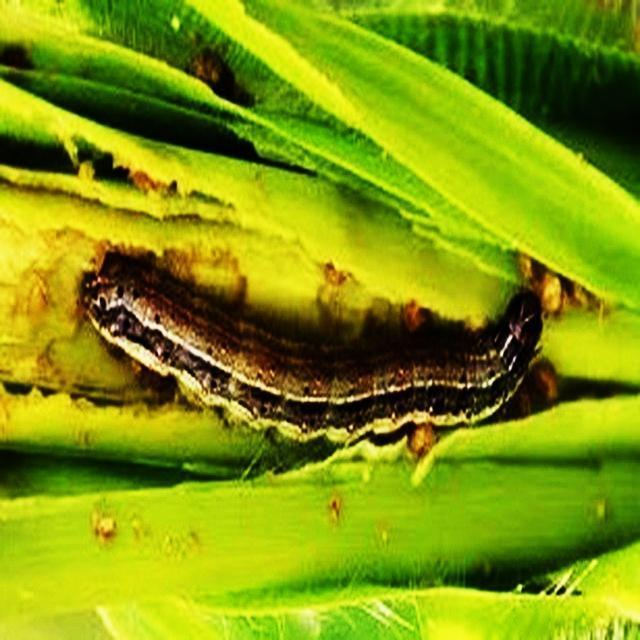gusano_cogollero: (84, 270, 546, 443)
